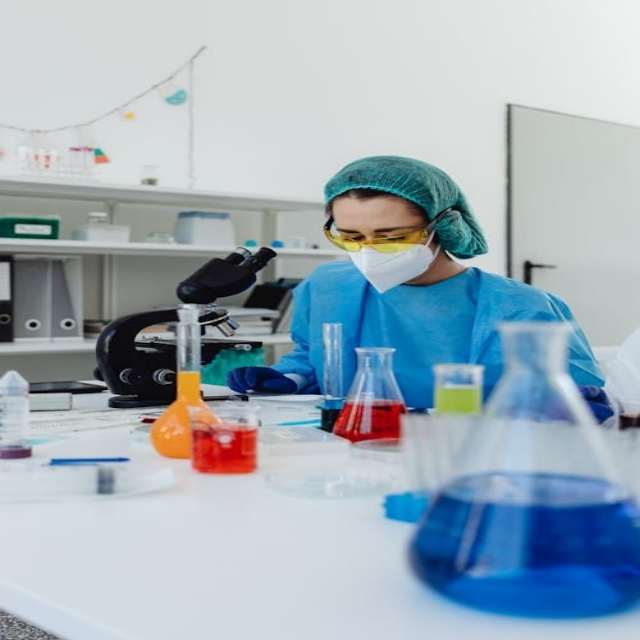Gafas: (324, 213, 442, 253)
Guantes: (219, 362, 301, 399)
Mascara: (341, 226, 445, 295)
